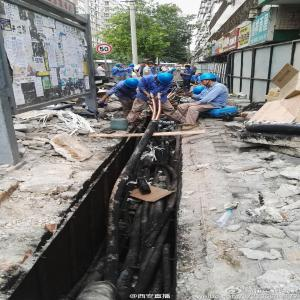blue: (156, 73, 175, 85), (201, 74, 217, 88), (124, 79, 140, 89), (115, 65, 121, 69), (130, 65, 136, 69), (172, 69, 177, 73)
none: (145, 57, 152, 62), (148, 63, 154, 68), (140, 63, 147, 67), (185, 66, 192, 70), (99, 64, 105, 68), (152, 65, 158, 69), (198, 74, 202, 77), (186, 62, 189, 65), (183, 65, 186, 68), (166, 65, 169, 68), (170, 65, 173, 68), (177, 63, 181, 65), (159, 65, 163, 67), (192, 65, 195, 67)
red: (119, 64, 124, 68)
